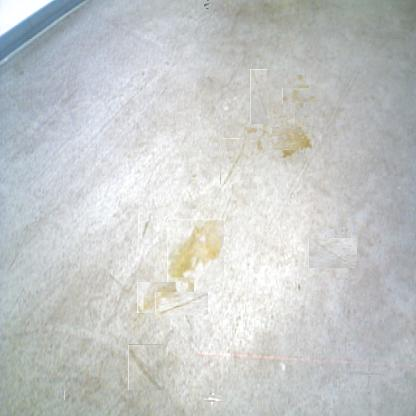liquid: (167, 219, 224, 282), (163, 284, 201, 323), (137, 281, 176, 313), (220, 138, 244, 184), (276, 122, 308, 154), (289, 81, 317, 110), (252, 123, 275, 145), (205, 390, 221, 406)
mark: (128, 344, 163, 390), (313, 234, 353, 273), (250, 69, 267, 124), (138, 212, 153, 246), (358, 362, 380, 384), (64, 390, 71, 400), (296, 282, 301, 293), (141, 69, 147, 78), (203, 2, 211, 8), (190, 173, 196, 180)
